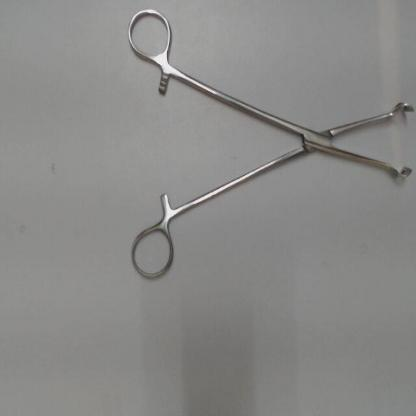8 Babcock Tissue Forceps: (122, 5, 414, 285)
